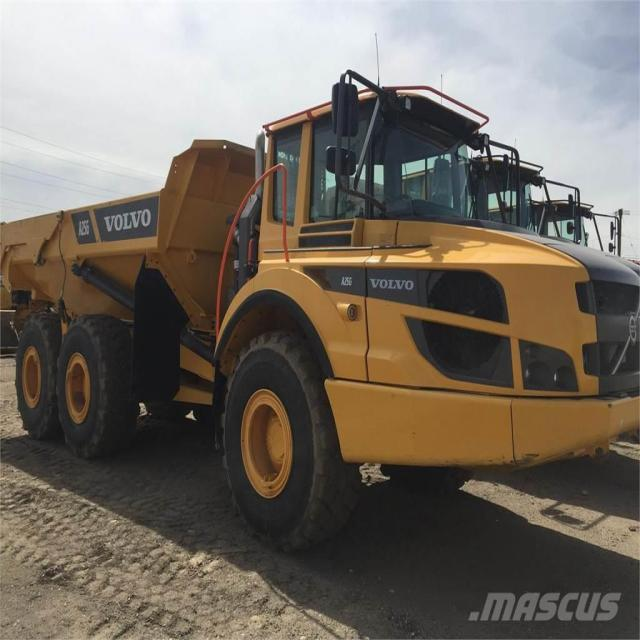dump_truck: (18, 68, 640, 568)
